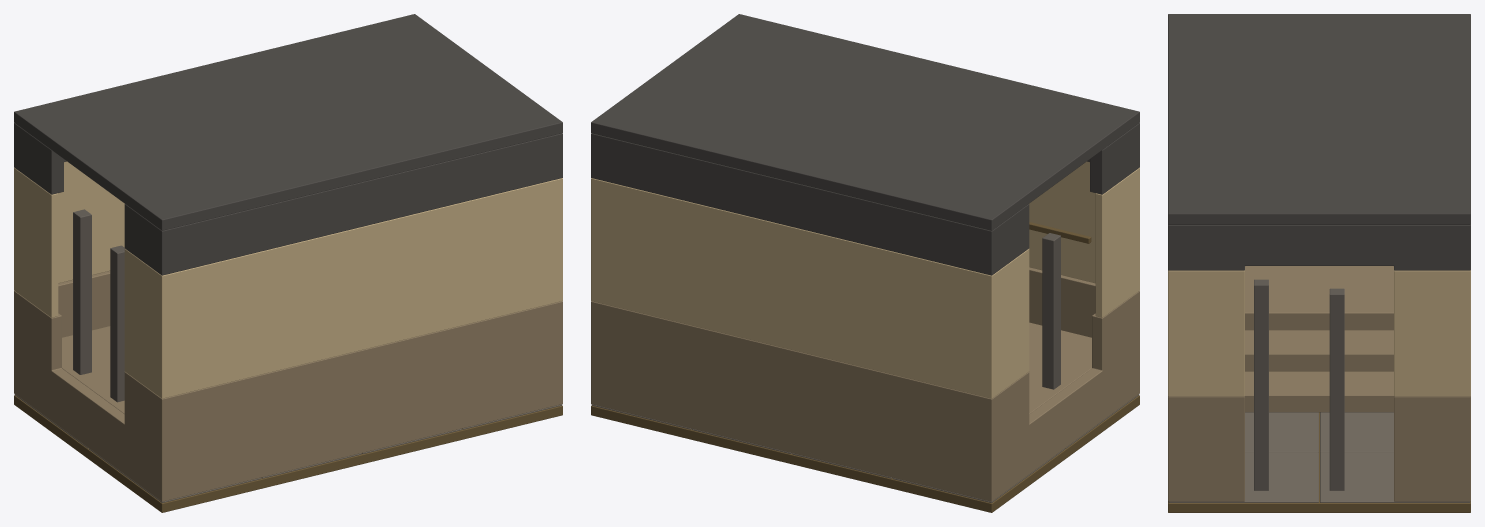
File: gen-return.glb
The picture shows the model from 3 angles, left to right: view 1: azimuth 30°, elevation 25°; view 2: azimuth 150°, elevation 25°; view 3: azimuth 270°, elevation 25°; orthographic projection. The views are drawn at different scales.
Parts seen in each view (by area): view 1: THE RETURN; view 2: THE RETURN; view 3: THE RETURN.
Boxes of the visible parts, bbox=[...] form: THE RETURN: bbox=[14, 14, 562, 512]; THE RETURN: bbox=[591, 14, 1139, 512]; THE RETURN: bbox=[1168, 14, 1470, 512].
Size of the model in its own units: 3.75 by 2.62 by 2.4.
